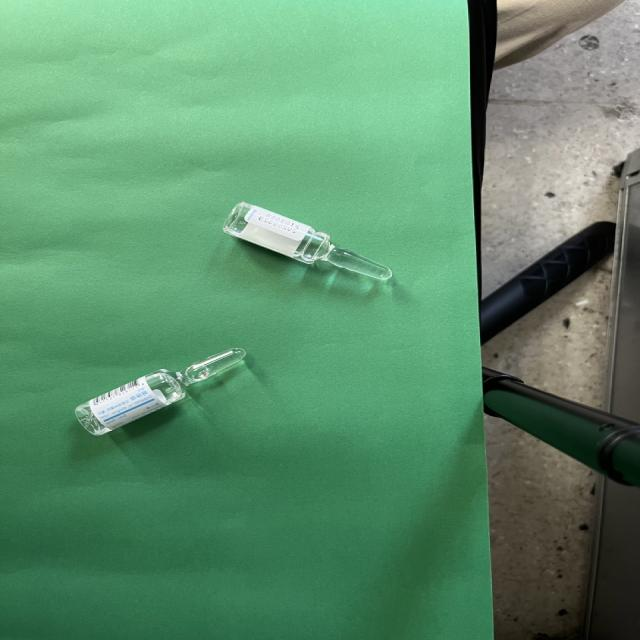Ampoules: (76, 348, 246, 435), (223, 202, 392, 280)
